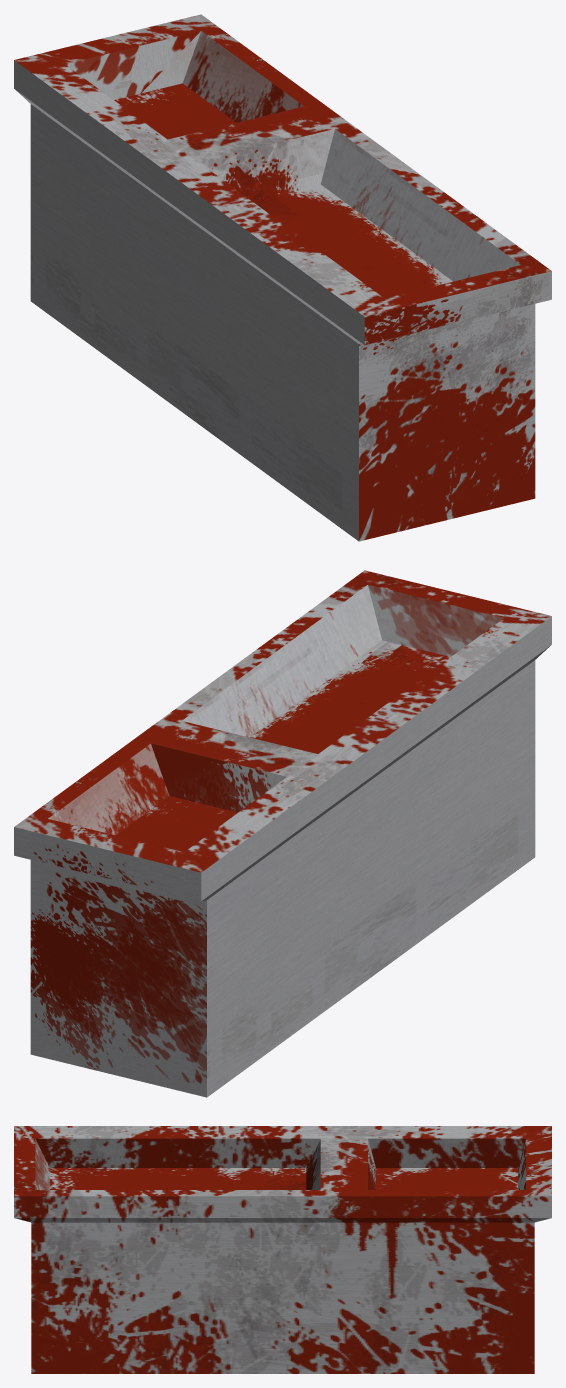
File: lavabocorregido.fbx
The picture shows the model from 3 angles, top to bottom: view 1: azimuth 30°, elevation 25°; view 2: azimuth 150°, elevation 25°; view 3: azimuth 270°, elevation 25°; orthographic projection. The views are drawn at different scales.
Visible parts, largest first — view 1: Cube.758; view 2: Cube.758; view 3: Cube.758.
Boxes of the visible parts, x1,y1,x2,y2 form: Cube.758: [14, 14, 551, 541]; Cube.758: [14, 570, 551, 1097]; Cube.758: [14, 1126, 551, 1373].
Bounding box in the file's own units: 80.63 × 96.44 × 262.
